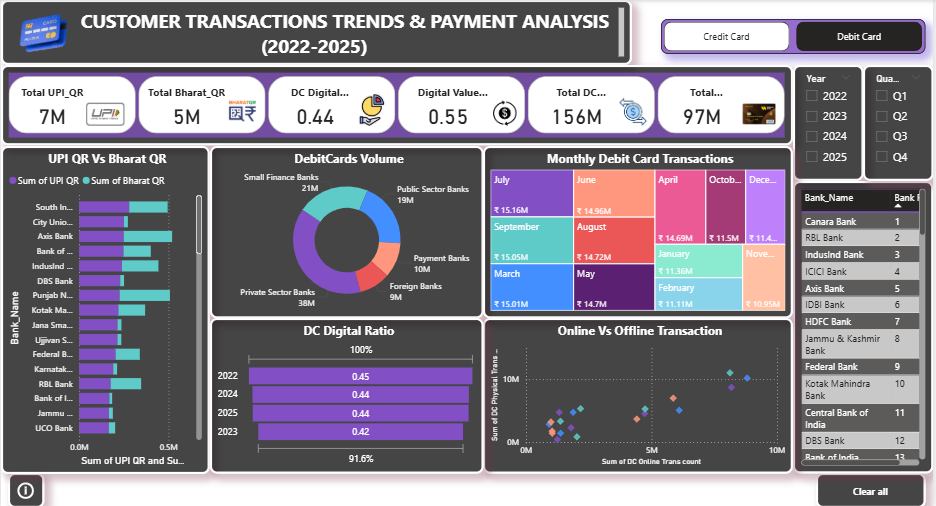

The dashboard page shown, as its layout file describes it:
{"tool":"powerbi","page":{"name":"Debit Card","canvas":[1336,728],"ordinal":7},"visuals":[{"type":"textbox","box":[0,0,904.4,93.3],"z":0},{"type":"actionButton","box":[1167.9,678.1,156.6,50.3],"z":1000},{"type":"actionButton","box":[10.1,678.1,51.7,50.3],"z":2000},{"type":"pageNavigator","box":[945.3,27.3,379.3,50.3],"z":3000},{"type":"cardVisual","fields":{"Data":["DC Measures.Total UPI_QR","DC Measures.Total Bharat_QR","DC Measures.DC Digital Ratio","DC Measures.Digital Value Share","DC Measures.Total DC Transactions","DC Measures.Total DebitCards"]},"box":[0,93.3,1135.2,115.4],"z":4000},{"type":"slicer","fields":{"Values":["Calendar.Year"]},"box":[1135.2,93.3,101.2,166],"z":5000},{"type":"barChart","title":"UPI QR Vs Bharat QR ","fields":{"Category":["ATM_POS_Status.Bank_Name"],"Y":["Sum(ATM_POS_Status.UPI QR)","Sum(ATM_POS_Status.Bharat QR)"]},"box":[0,208.7,298.8,469.6],"z":7000},{"type":"tableEx","title":"Rank wise Bank_Name","fields":{"Values":["ATM_POS_Status.Bank_Name","DC Measures.Bank Rank"]},"box":[1135.2,259.3,200.8,419],"z":8000},{"type":"slicer","fields":{"Values":["Calendar.Quarter"]},"box":[1234.8,93.3,101.2,166],"z":9000},{"type":"donutChart","title":"DebitCards Volume","fields":{"Category":["ATM_POS_Status.Bank_Category"],"Y":["DC Measures.Total DebitCards"]},"box":[298.8,208.7,392.1,246.6],"z":10000},{"type":"treemap","title":"Monthly Debit Card Transactions","fields":{"Values":["DC Measures.Total DC Trans Amount"],"Group":["Calendar.Month"]},"box":[690.9,208.7,444.3,246.6],"z":11000},{"type":"scatterChart","title":"Online Vs Offline Transaction","fields":{"Y":["Sum(ATM_POS_Status.DC Physical Trans count)"],"Category":["ATM_POS_Status.Bank_Category"],"X":["Sum(ATM_POS_Status.DC Online Trans count)"],"Series":["Calendar.Year"]},"box":[690.9,455.3,444.3,222.9],"z":12000},{"type":"funnel","title":"DC Digital Ratio ","fields":{"Category":["Calendar.Year"],"Y":["DC Measures.DC Digital Ratio"]},"box":[298.8,455.3,392.1,222.9],"z":13000},{"type":"image","box":[14,0,93.2,93.2],"z":13001}]}

Visuals, with their boxes in screenshot pixels (x1, y1, x2, y2), scaled from the page's 1336x728 canvas onto the 936x506 screenshot:
textbox: 0:0:634:65
actionButton: 818:471:928:505
actionButton: 7:471:43:505
pageNavigator: 662:19:928:54
cardVisual - DC Measures.Total UPI_QR x DC Measures.Total Bharat_QR: 0:65:795:145
slicer - Calendar.Year: 795:65:866:180
"UPI QR Vs Bharat QR " barChart: 0:145:209:471
"Rank wise Bank_Name" tableEx: 795:180:935:471
slicer - Calendar.Quarter: 865:65:935:180
"DebitCards Volume" donutChart: 209:145:484:316
"Monthly Debit Card Transactions" treemap: 484:145:795:316
"Online Vs Offline Transaction" scatterChart: 484:316:795:471
"DC Digital Ratio " funnel: 209:316:484:471
image: 10:0:75:65
